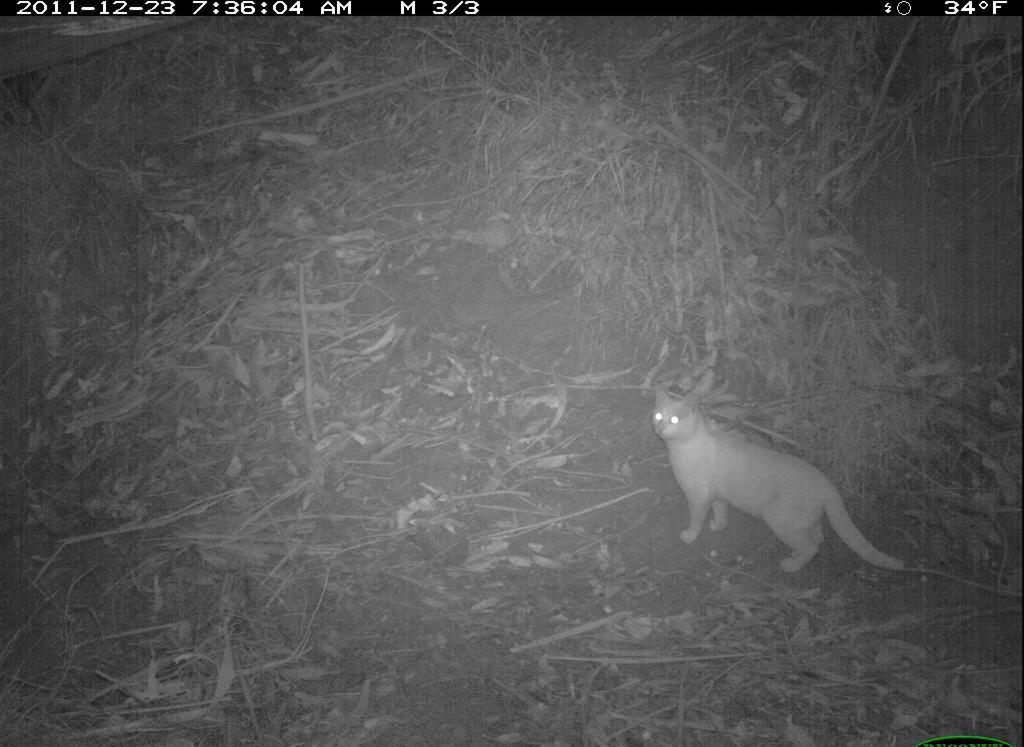cat: (646, 377, 909, 584)
